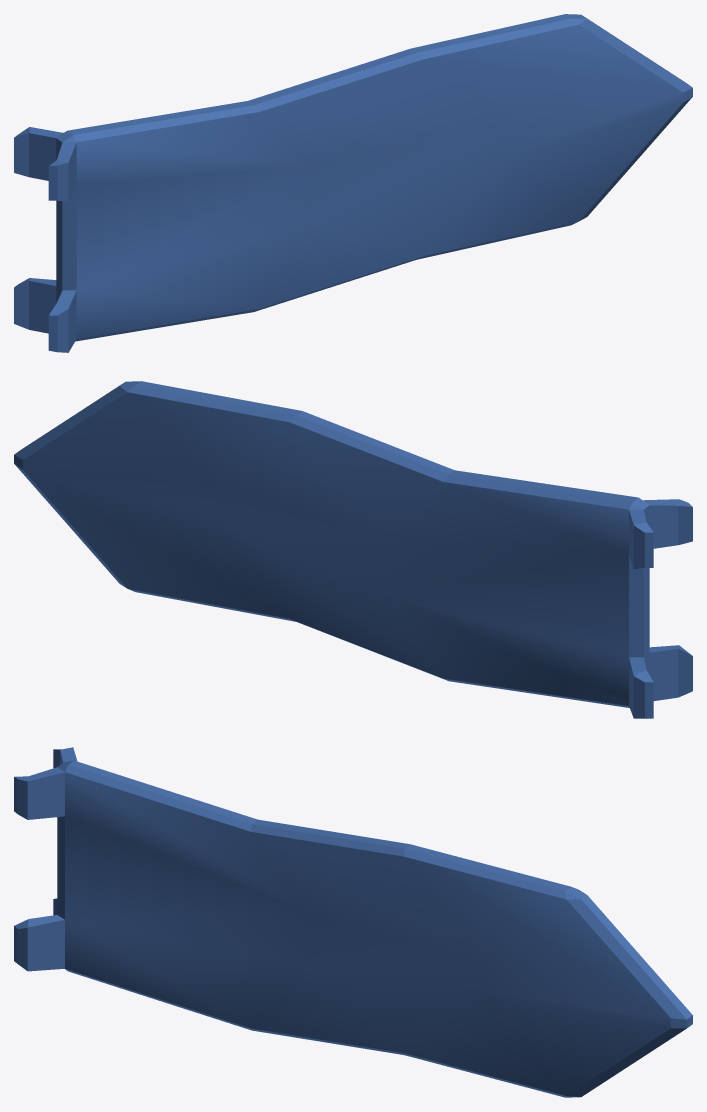
The model's file is DirectionsBoard1_v1.fbx.
The picture shows the model from 3 angles, top to bottom: view 1: azimuth 30°, elevation 25°; view 2: azimuth 150°, elevation 25°; view 3: azimuth 330°, elevation 25°; orthographic projection.
Parts seen in each view (by area): view 1: Cube.259; view 2: Cube.259; view 3: Cube.259.
Boxes of the visible parts, x1,y1,x2,y2 form: Cube.259: [14, 14, 692, 352]; Cube.259: [14, 381, 692, 718]; Cube.259: [14, 747, 692, 1097].
Bounding box in the file's own units: 291 × 94.62 × 32.35.
